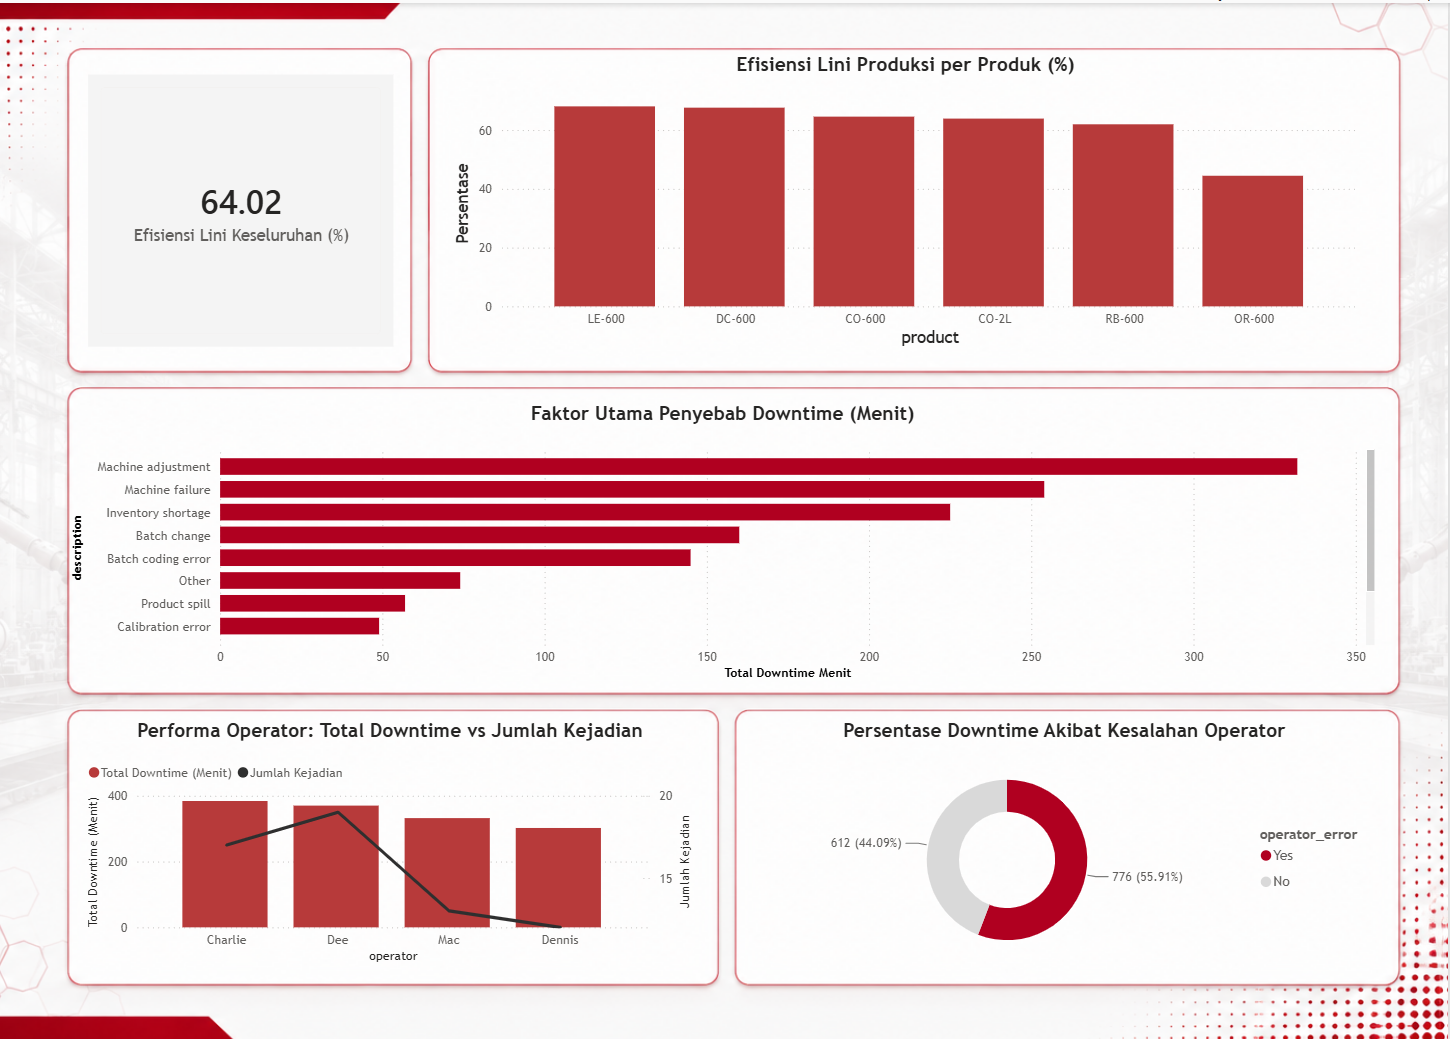

This screenshot's page, from the dashboard's own definition file:
{"tool":"powerbi","page":{"name":"Page 1","canvas":[1393,1000],"ordinal":0},"visuals":[{"type":"barChart","title":"Faktor Utama Penyebab Downtime (Menit)","fields":{"Category":["downtime_by_factor.description"],"Y":["Sum(downtime_by_factor.total_dwontime_minutes)"]},"box":[64,384,1264,272],"z":0},{"type":"clusteredColumnChart","title":"Efisiensi Lini Produksi per Produk (%)","fields":{"Category":["efficiency_by_product.product"],"Y":["Sum(efficiency_by_product.persentase_efisiensi)"]},"box":[432,48,880,288],"z":1000},{"type":"donutChart","title":"Persentase Downtime Akibat Kesalahan Operator","fields":{"Category":["operator_error_summary.operator_error"],"Y":["Sum(operator_error_summary.total_downtime)"]},"box":[720,688,608,240],"z":2000},{"type":"lineClusteredColumnComboChart","title":"Performa Operator: Total Downtime vs Jumlah Kejadian","fields":{"Category":["downtime_by_operator.operator"],"Y2":["Sum(downtime_by_operator.event_count)"],"Y":["Sum(downtime_by_operator.total_downtime_minutes)"]},"box":[80,688,592,240],"z":3000},{"type":"cardVisual","fields":{"Data":["Sum(overall_line_efficiency.persentase_efisiensi)"]},"box":[80,64,304,272],"z":4000}]}

Visuals, with their boxes in screenshot pixels (x1, y1, x2, y2), scaled from the page's 1393x1000 canvas onto the 1450x1039 screenshot:
"Faktor Utama Penyebab Downtime (Menit)" barChart: bbox=[67, 399, 1382, 682]
"Efisiensi Lini Produksi per Produk (%)" clusteredColumnChart: bbox=[450, 50, 1366, 349]
"Persentase Downtime Akibat Kesalahan Operator" donutChart: bbox=[749, 715, 1382, 964]
"Performa Operator: Total Downtime vs Jumlah Kejadian" lineClusteredColumnComboChart: bbox=[83, 715, 699, 964]
cardVisual - Sum(overall_line_efficiency.persentase_efisiensi): bbox=[83, 66, 400, 349]
